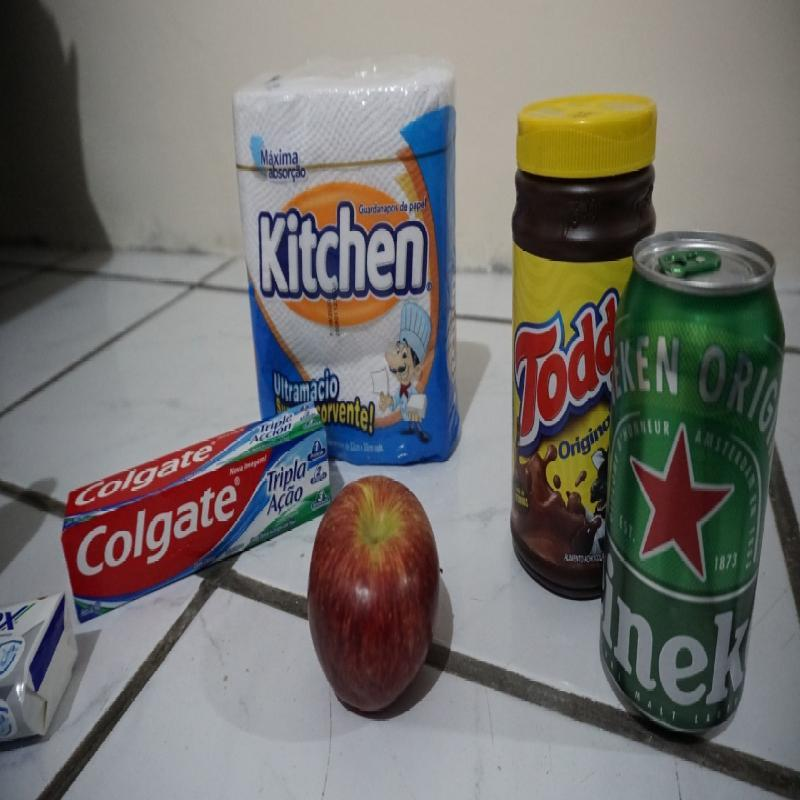Apple: (307, 476, 440, 718)
Beer can: (594, 220, 789, 749)
Chocolate Powder: (506, 90, 656, 606)
Napkin: (233, 53, 462, 465)
Soap: (0, 589, 82, 749)
Toothpaste: (63, 398, 336, 624)
